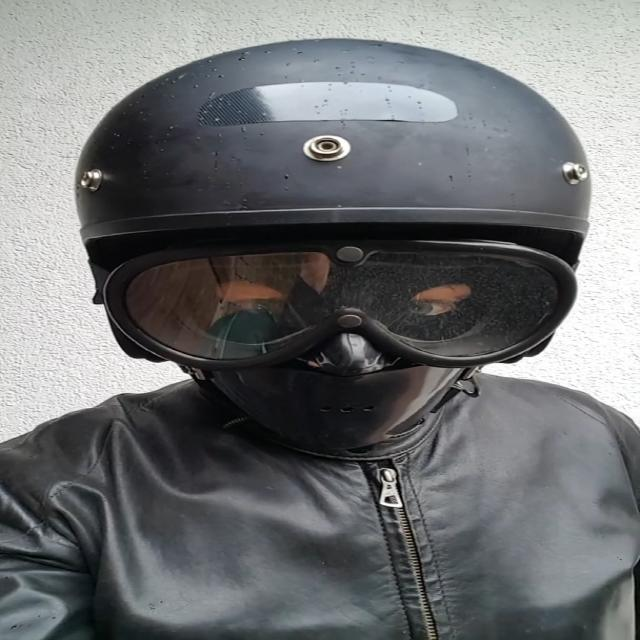Helmet_Wearer: (38, 29, 580, 398)
Jacket_Wearer: (3, 356, 640, 640)
Person: (5, 35, 639, 640)
